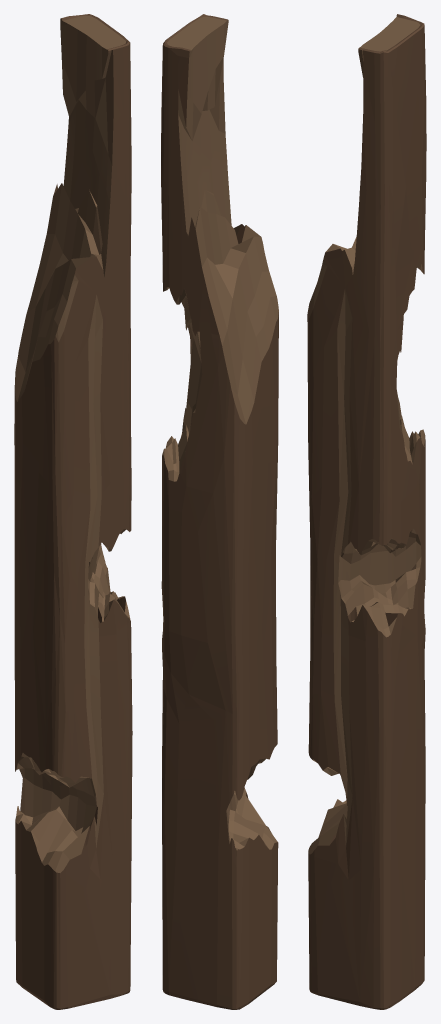
Rendered from SM_Pillar_Broken_Lvl_1_02.glb.
3 views of the same model, side by side, from view 1: azimuth 30°, elevation 25°; view 2: azimuth 150°, elevation 25°; view 3: azimuth 330°, elevation 25° (orthographic).
Visible parts, largest first — view 1: SM_Pillar_Broken_Lvl_1_02; view 2: SM_Pillar_Broken_Lvl_1_02; view 3: SM_Pillar_Broken_Lvl_1_02.
Boxes of the visible parts, x1,y1,x2,y2 form: SM_Pillar_Broken_Lvl_1_02: (14, 14, 132, 1009); SM_Pillar_Broken_Lvl_1_02: (161, 14, 278, 1009); SM_Pillar_Broken_Lvl_1_02: (307, 14, 426, 1009).
Bounding box in the file's own units: 0.3 × 3.25 × 0.3.
Materials: 1 (1 with a texture image).
